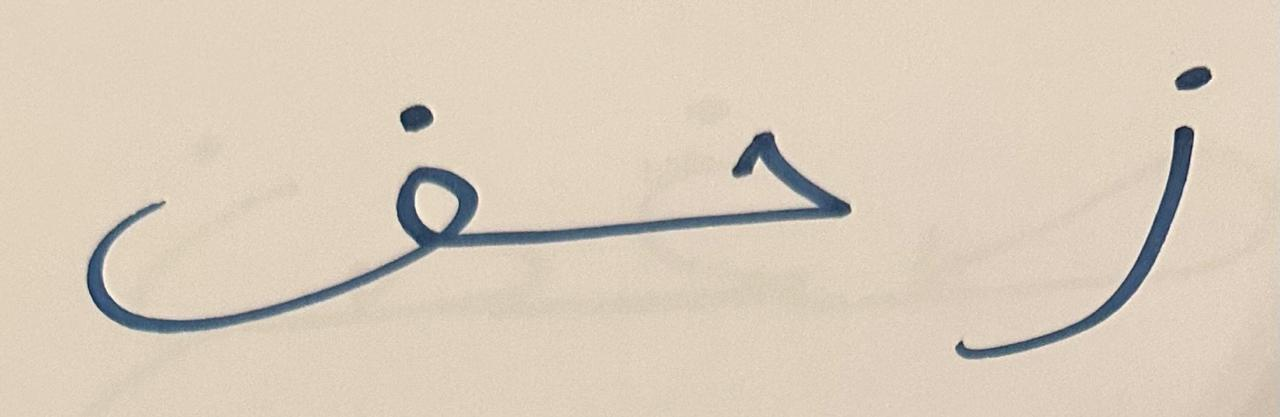feh: (42, 27, 524, 369)
hah: (530, 13, 895, 364)
hamza: (900, 30, 1251, 403)
